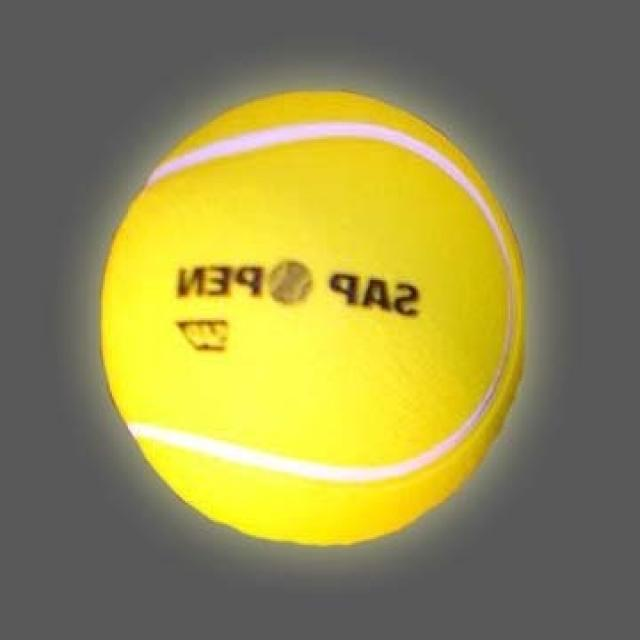Tennis Ball: (96, 90, 530, 549)
